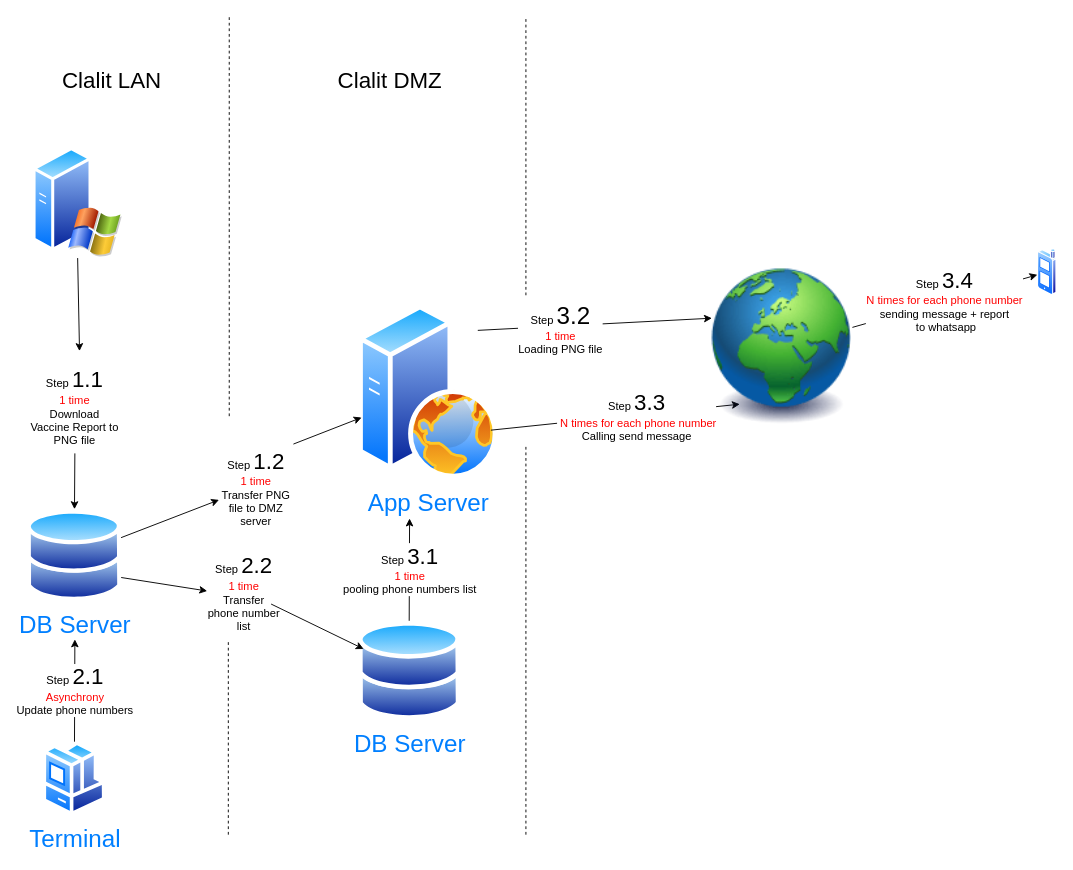
The diagram is 1073 pixels wide and 870 high, and some of its shapes have lost their labels. Each missing label, with the box of its shape:
COMMBOX Cloud Service: (711, 239, 851, 453)
Data SSRS: (33, 146, 122, 258)
